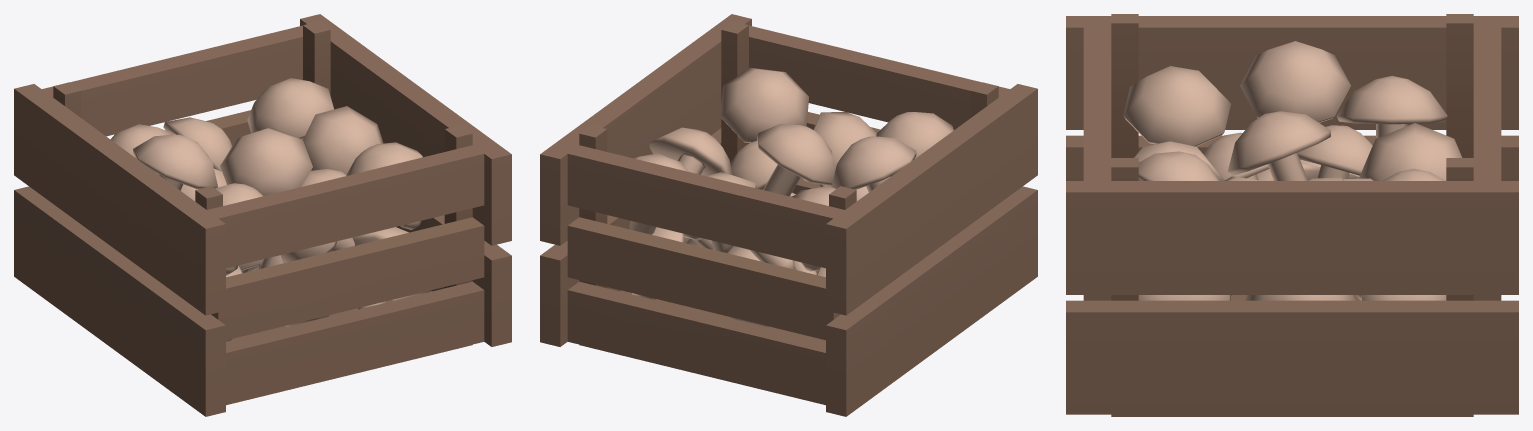
Rendered from box-with-mushrooms.glb.
3 renders of one model, left to right at view 1: azimuth 30°, elevation 25°; view 2: azimuth 150°, elevation 25°; view 3: azimuth 270°, elevation 25°, orthographic. The views are drawn at different scales.
Parts seen in each view (by area): view 1: BoxWithMushrooms.001; view 2: BoxWithMushrooms.001; view 3: BoxWithMushrooms.001.
Boxes of the visible parts, bbox=[...] form: BoxWithMushrooms.001: bbox=[14, 14, 511, 416]; BoxWithMushrooms.001: bbox=[540, 14, 1037, 416]; BoxWithMushrooms.001: bbox=[1066, 14, 1518, 416].
Bounding box in the file's own units: 0.5862 × 0.387 × 0.6357.
Materials: 1 (1 with a texture image).
